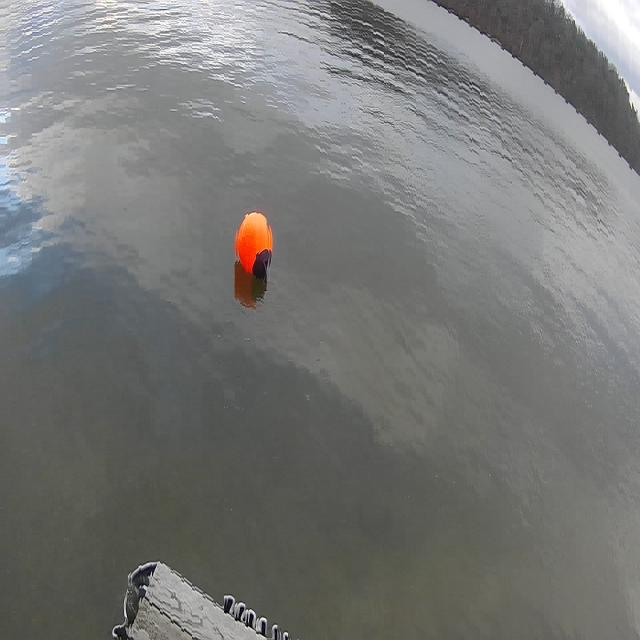Buoy: (229, 202, 277, 292)
